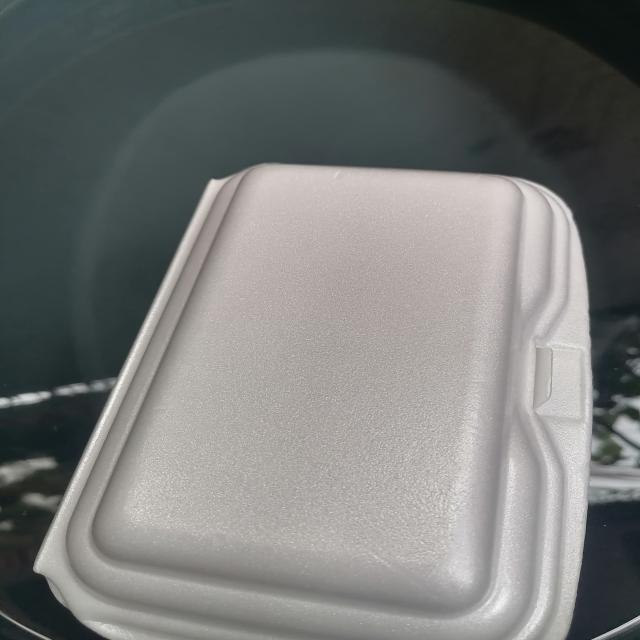Styrofoam Container: (35, 164, 591, 640)
